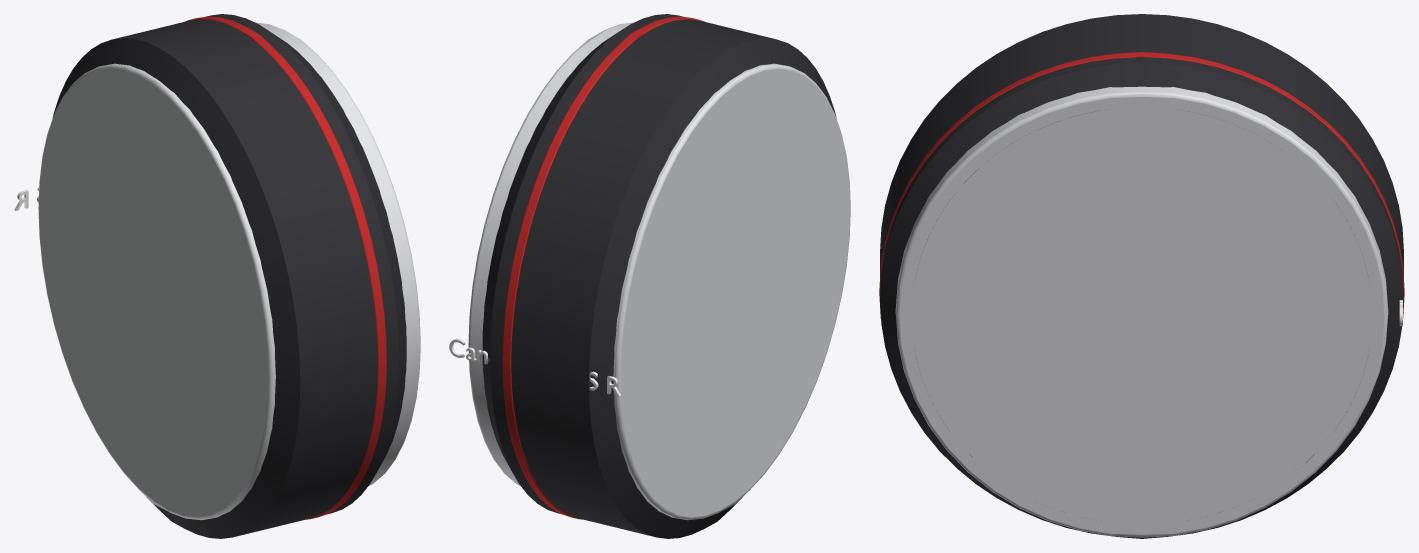
File: canon_ef_eos_r.glb
3 renders of one model, left to right at view 1: azimuth 30°, elevation 25°; view 2: azimuth 150°, elevation 25°; view 3: azimuth 270°, elevation 25°, orthographic. The views are drawn at different scales.
Visible parts, largest first — view 1: Canon EF-EOS R; view 2: Canon EF-EOS R; view 3: Canon EF-EOS R.
Part boxes in pixels (x1,y1,x2,y2): Canon EF-EOS R: [14, 14, 420, 538]; Canon EF-EOS R: [449, 14, 850, 538]; Canon EF-EOS R: [879, 14, 1404, 538].
Bounding box in the file's own units: 0.0276 × 0.0723 × 0.0722.
